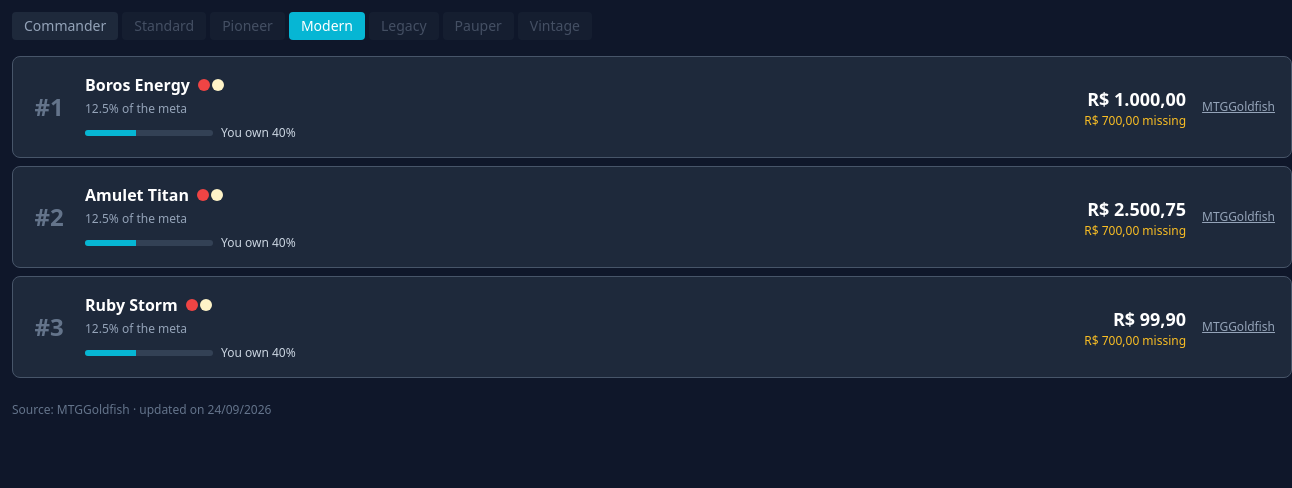
Test: MetaDecksPanel › detail failure shows inline message while the list stays visible
Click the button with test id "meta-deck-toggle" that starts with "Boros Energy" at point(137, 85), box [29, 73, 1186, 141]
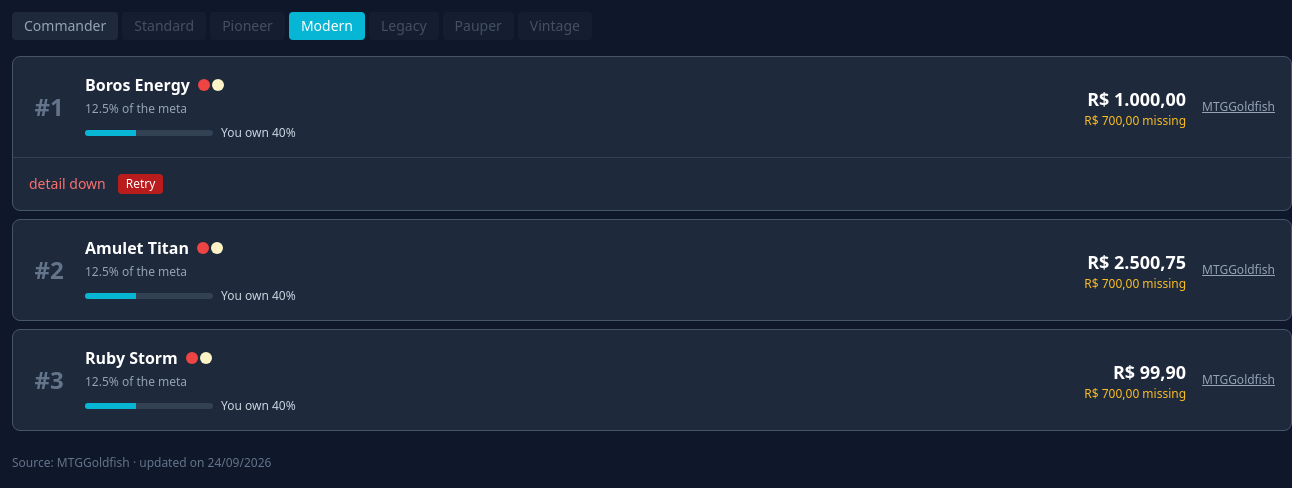
expect the element with test id "meta-deck-row-3" is shown: met, box [12, 329, 1291, 431]
expect the message "detail down Retry" is shown: met, box [29, 174, 163, 194]
